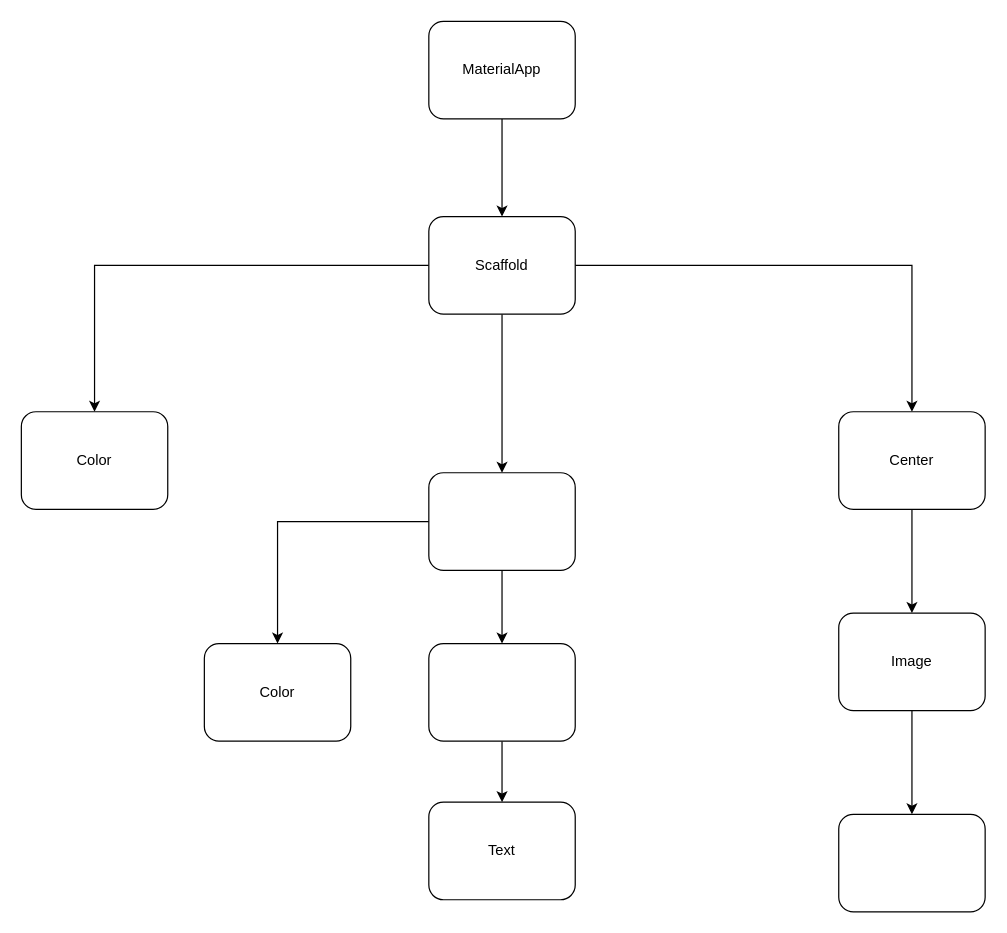
Some shapes in this 1007 by 933 pixel diagram are drawn without their labels. The centre of each missing label's shape, as x and y in pixels:
"AppBar" belongs at point (501, 521).
"AssetImage" belongs at point (911, 862).
"Title" belongs at point (501, 691).
